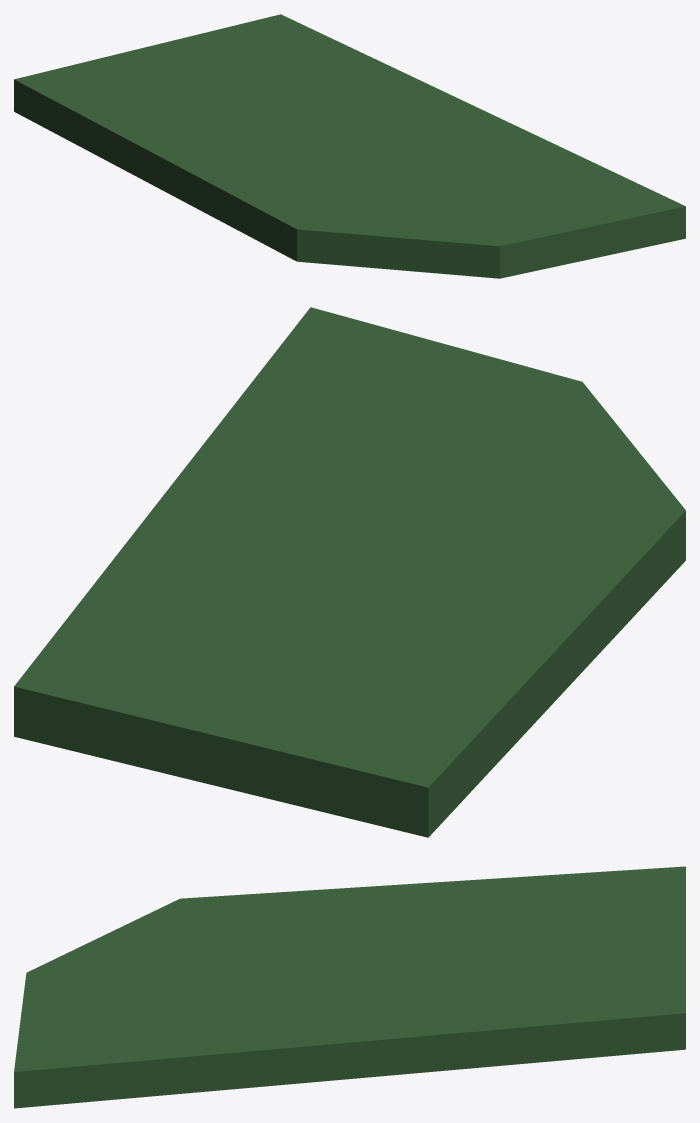
File: x_proval_00_180_1_rmstrd.fbx
3 views of the same model, one above another, from view 1: azimuth 30°, elevation 25°; view 2: azimuth 150°, elevation 25°; view 3: azimuth 270°, elevation 25° (orthographic). The views are drawn at different scales.
Visible parts, largest first — view 1: x_proval_00_180_1_rmstrd1; view 2: x_proval_00_180_1_rmstrd1; view 3: x_proval_00_180_1_rmstrd1.
Part boxes in pixels (bbox=[...]): x_proval_00_180_1_rmstrd1: bbox=[14, 14, 685, 278]; x_proval_00_180_1_rmstrd1: bbox=[14, 307, 685, 837]; x_proval_00_180_1_rmstrd1: bbox=[14, 866, 685, 1108].
Size of the model in its own units: 2.42 by 0.2 by 3.34.
